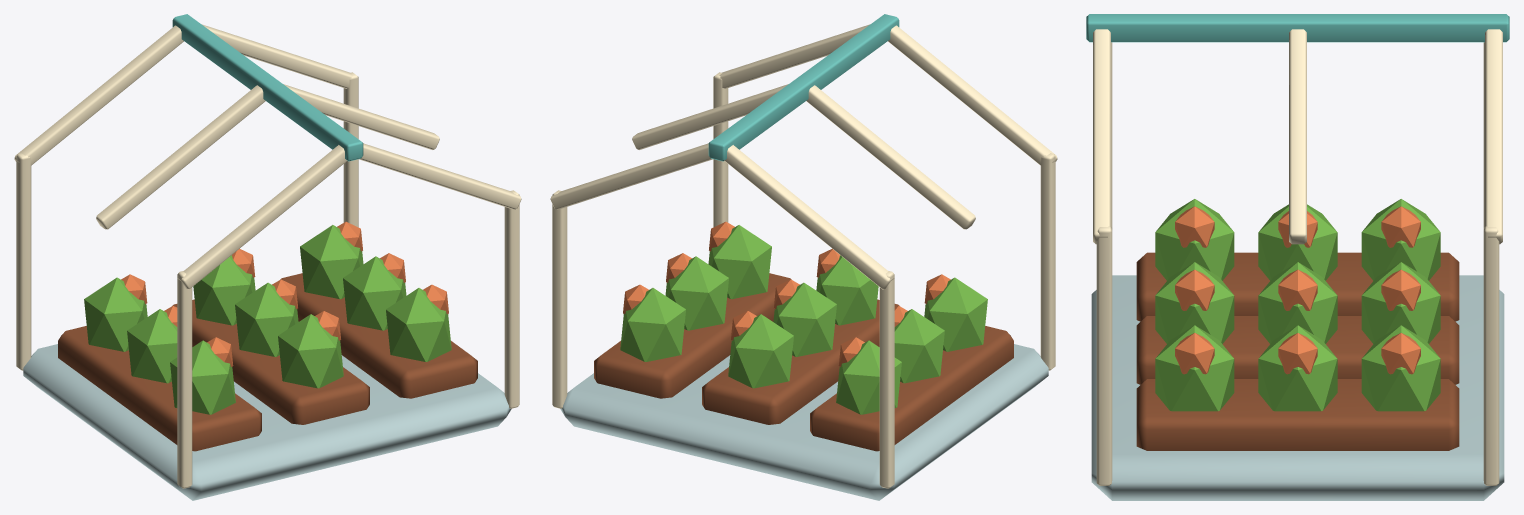
The model's file is garden.glb.
3 views of the same model, side by side, from view 1: azimuth 30°, elevation 25°; view 2: azimuth 150°, elevation 25°; view 3: azimuth 270°, elevation 25° (orthographic). The views are drawn at different scales.
Visible parts, largest first — view 1: Base, Bed, Bed.002, Bed.001, Ridge, Arch.002, Arch, Arch.004, Plant.003, Plant.006, Post.001, Post (+12 smaller); view 2: Base, Bed, Bed.002, Bed.001, Ridge, Arch.002, Arch.004, Arch, Plant.005, Plant.008, Post, Post.001 (+12 smaller); view 3: Base, Bed.002, Ridge, Bed, Bed.001, Plant.007, Plant.006, Plant.008, Post.002, Post.003, Arch.003, Arch.001 (+16 smaller).
Part boxes in pixels (left/top/right/bottom): Base: left=23, top=344, right=511, bottom=500; Bed: left=58, top=326, right=261, bottom=451; Bed.002: left=280, top=273, right=477, bottom=398; Bed.001: left=172, top=299, right=369, bottom=424; Ridge: left=172, top=14, right=363, bottom=161; Arch.002: left=96, top=85, right=265, bottom=229; Arch: left=177, top=145, right=347, bottom=289; Arch.004: left=14, top=25, right=183, bottom=165; Plant.003: left=278, top=314, right=343, bottom=388; Plant.006: left=386, top=288, right=451, bottom=361; Post.001: left=16, top=153, right=31, bottom=370; Post: left=177, top=271, right=192, bottom=488; Base: left=560, top=344, right=1048, bottom=500; Bed: left=810, top=326, right=1013, bottom=451; Bed.002: left=594, top=273, right=791, bottom=398; Bed.001: left=702, top=299, right=899, bottom=424; Ridge: left=708, top=14, right=899, bottom=161; Arch.002: left=806, top=85, right=975, bottom=229; Arch.004: left=724, top=145, right=894, bottom=289; Arch: left=888, top=25, right=1057, bottom=165; Plant.005: left=728, top=314, right=793, bottom=388; Plant.008: left=620, top=288, right=685, bottom=361; Post: left=1040, top=153, right=1055, bottom=370; Post.001: left=879, top=271, right=894, bottom=488; Base: left=1091, top=275, right=1504, bottom=500; Bed.002: left=1136, top=379, right=1459, bottom=450; Ridge: left=1086, top=14, right=1509, bottom=42; Bed: left=1136, top=252, right=1459, bottom=321; Bed.001: left=1136, top=316, right=1459, bottom=384; Plant.007: left=1258, top=325, right=1337, bottom=411; Plant.006: left=1155, top=325, right=1234, bottom=411; Plant.008: left=1361, top=325, right=1440, bottom=411; Post.002: left=1096, top=226, right=1112, bottom=485; Post.003: left=1483, top=226, right=1499, bottom=485; Arch.003: left=1289, top=29, right=1306, bottom=244; Arch.001: left=1093, top=29, right=1110, bottom=244.
Size of the model in its own units: 1.82 by 1.68 by 1.64.
